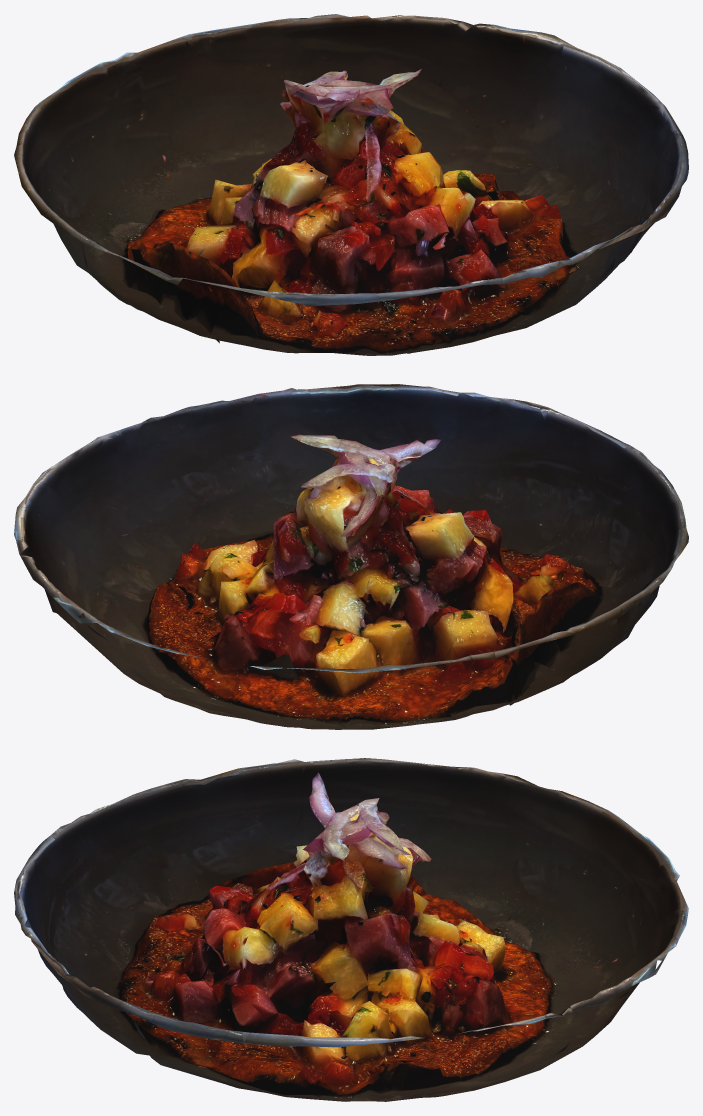
The model's file is tostada.glb.
3 views of the same model, one above another, from view 1: azimuth 30°, elevation 25°; view 2: azimuth 150°, elevation 25°; view 3: azimuth 270°, elevation 25° (orthographic).
Parts seen in each view (by area): view 1: group_0; view 2: group_0; view 3: group_0.
Part boxes in pixels (box(x1,y1,x2,y2)): group_0: box(14, 14, 688, 355); group_0: box(14, 384, 688, 729); group_0: box(14, 758, 688, 1101).
Size of the model in its own units: 0.1649 by 0.0573 by 0.1656.
1 material, 1 textured.
